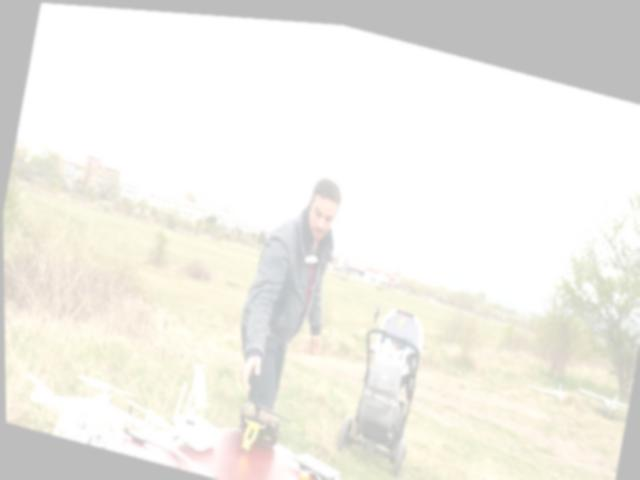plane: (427, 185, 476, 209)
